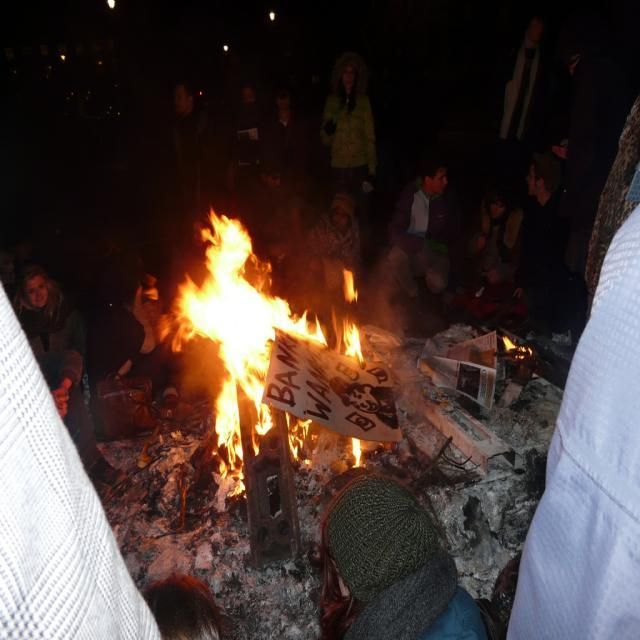Fire: (194, 213, 285, 424)
